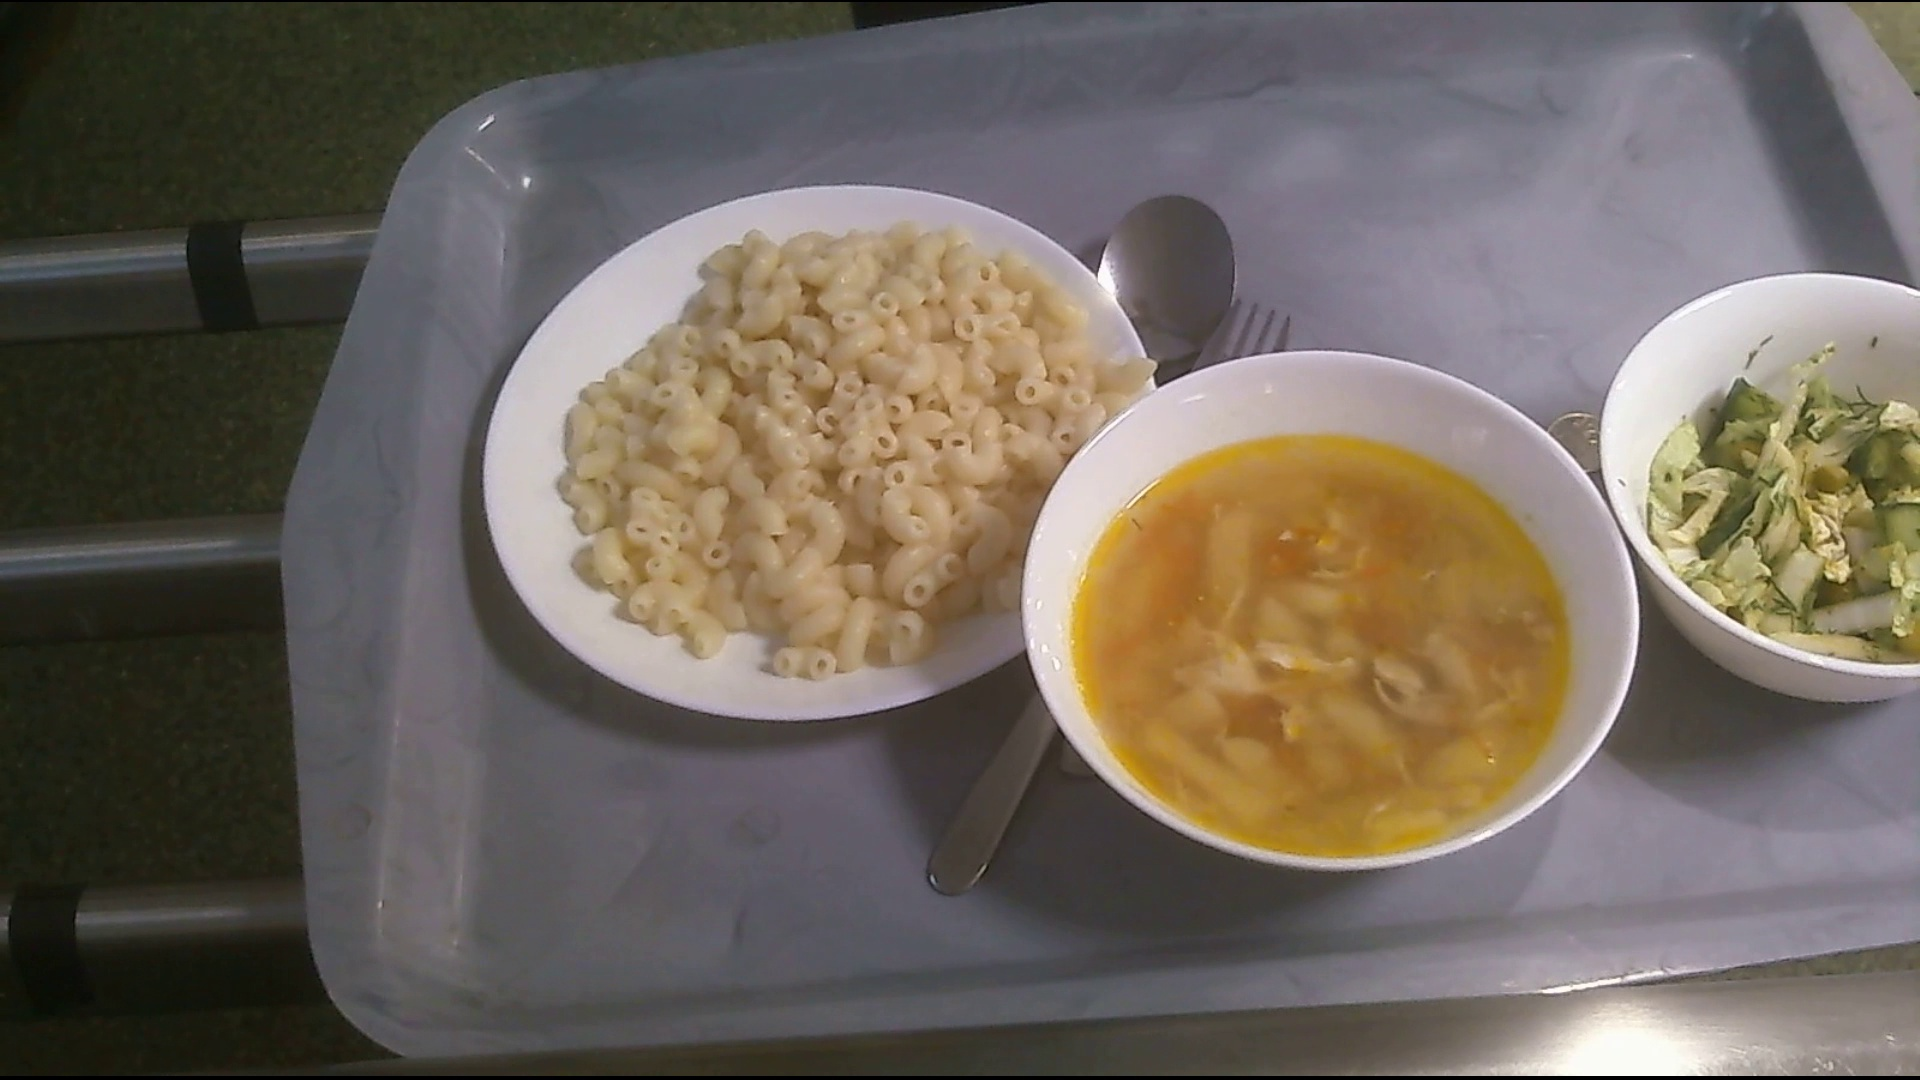bowl: (1047, 356, 1636, 869), (1607, 266, 1920, 702)
cutlery: (1104, 185, 1238, 360)
plate: (485, 187, 1156, 746)
